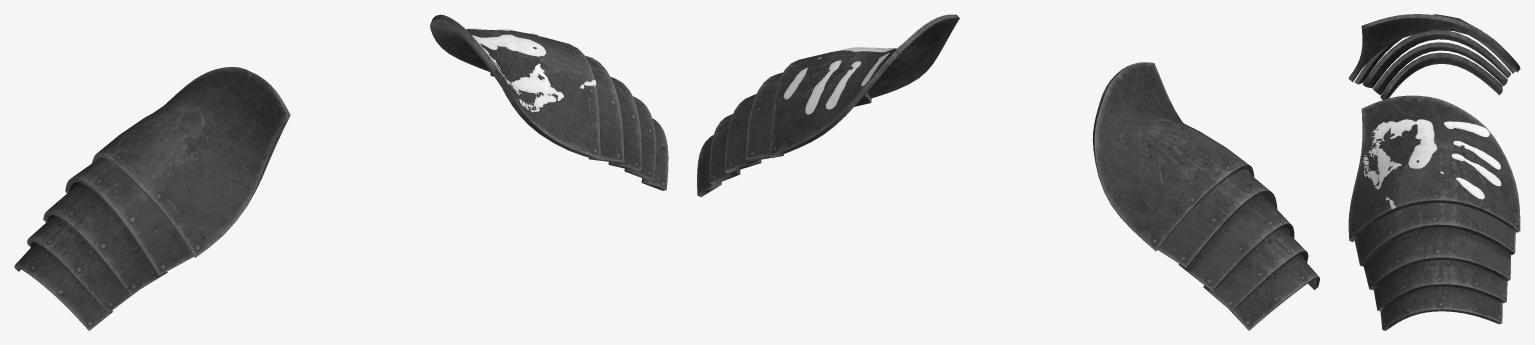
Rendered from sk_uruk_hai_pauldron_heavy_a2.fbx.
3 views of the same model, side by side, from view 1: azimuth 30°, elevation 25°; view 2: azimuth 150°, elevation 25°; view 3: azimuth 270°, elevation 25° (orthographic). The views are drawn at different scales.
Parts seen in each view (by area): view 1: sk_uruk_hai_pauldron_heavy_a2.0, sk_uruk_hai_pauldron_heavy_a2.1; view 2: sk_uruk_hai_pauldron_heavy_a2.0, sk_uruk_hai_pauldron_heavy_a2.1; view 3: sk_uruk_hai_pauldron_heavy_a2.0, sk_uruk_hai_pauldron_heavy_a2.1.
Part boxes in pixels (x1,y1,x2,y2): sk_uruk_hai_pauldron_heavy_a2.0: (14, 14, 668, 330); sk_uruk_hai_pauldron_heavy_a2.1: (466, 28, 596, 111); sk_uruk_hai_pauldron_heavy_a2.0: (697, 14, 1319, 330); sk_uruk_hai_pauldron_heavy_a2.1: (783, 46, 899, 114); sk_uruk_hai_pauldron_heavy_a2.0: (1348, 14, 1520, 330); sk_uruk_hai_pauldron_heavy_a2.1: (1363, 118, 1501, 208).
Size of the model in its own units: 0.808 by 0.2364 by 0.2446.
Materials: 2 (2 with a texture image).
